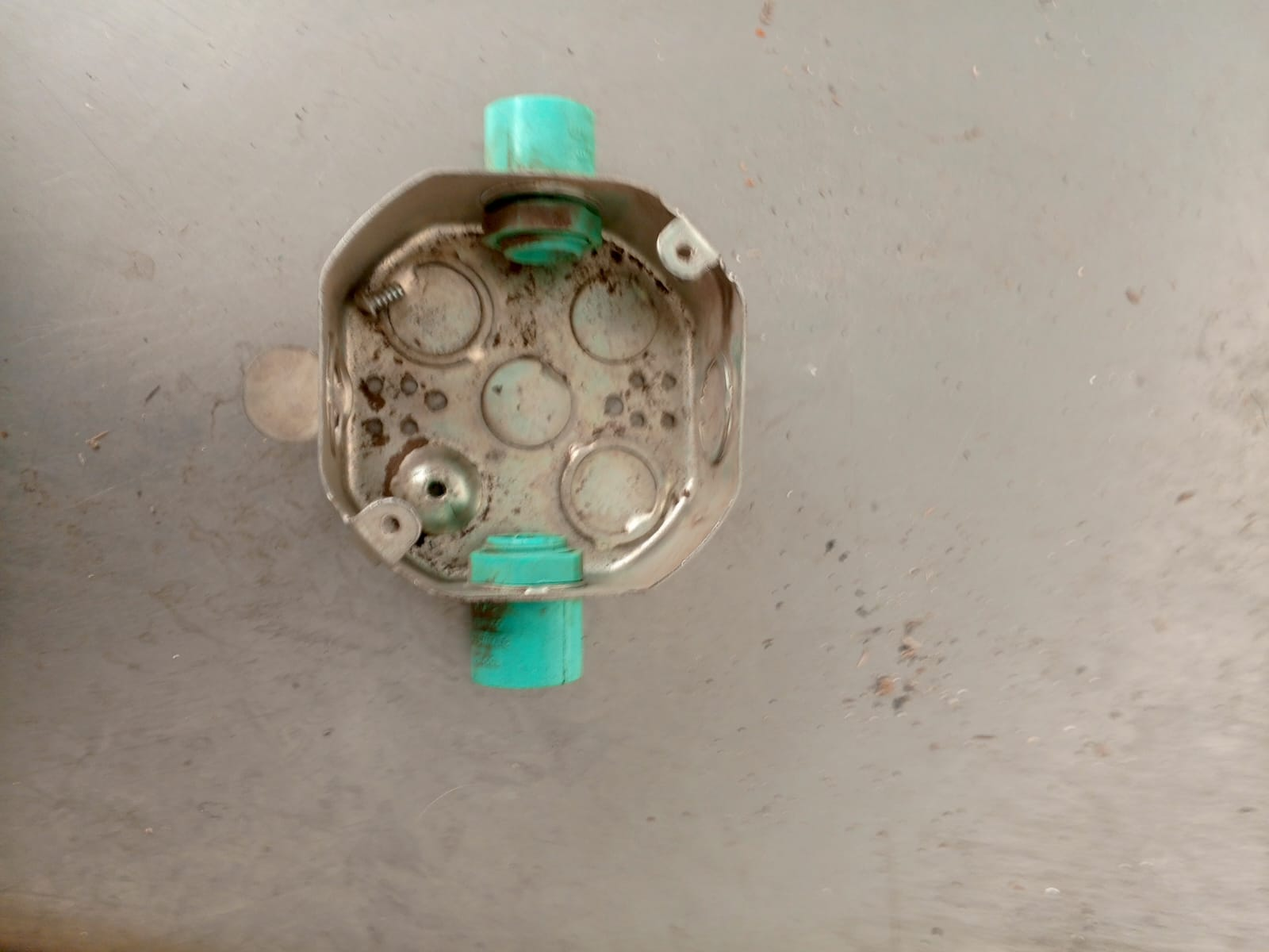Metal: (317, 171, 746, 605)
